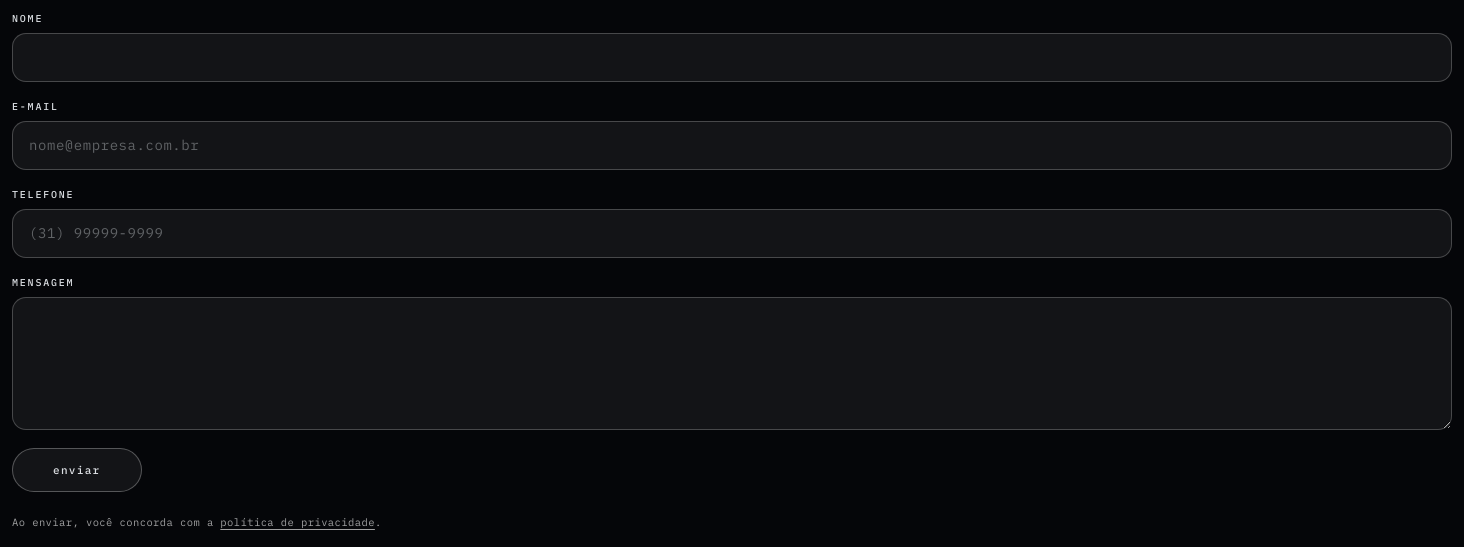
Test: consentimento e medição (LGPD) › formulário de contato não tem caixa de anúncios e registra só a política
The width and height of the screenshot is (1464, 547).
Type "Sarah" into the field labelled "nome" at (732, 58), box x1=12 y1=33 x2=1452 y2=82
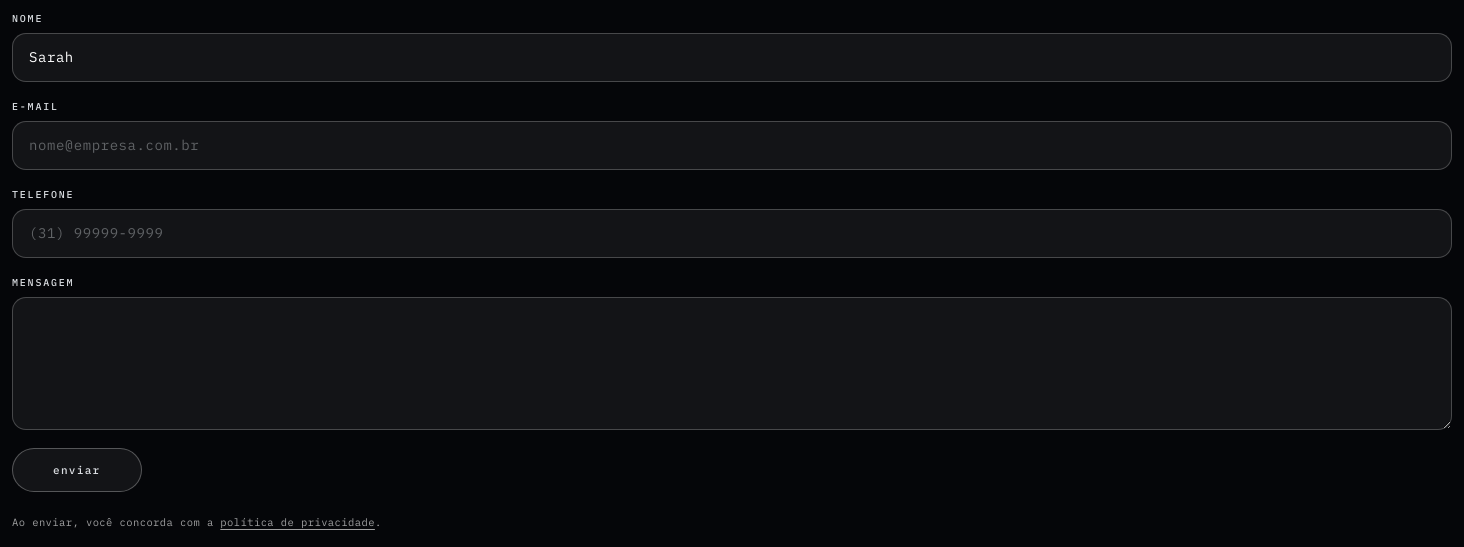
Type "sarah@exemplo.com" into the field labelled "e-mail" at (732, 146), box x1=12 y1=121 x2=1452 y2=170
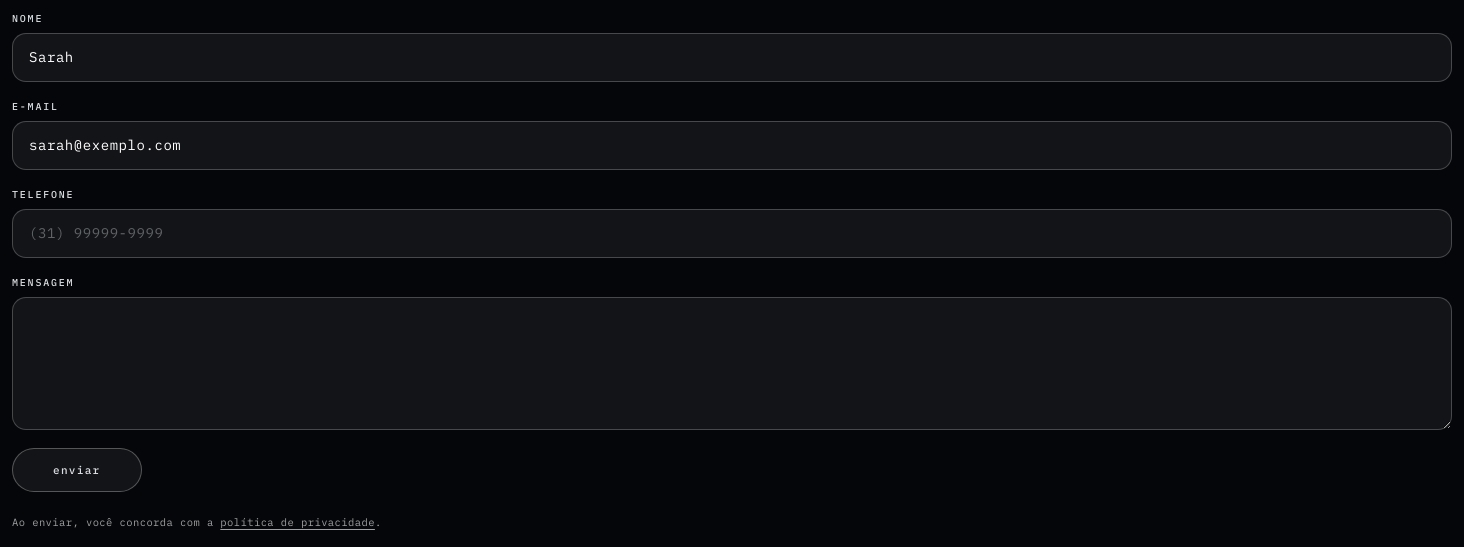
Type "31993341543" into the field labelled "telefone" at (732, 234), box x1=12 y1=209 x2=1452 y2=258
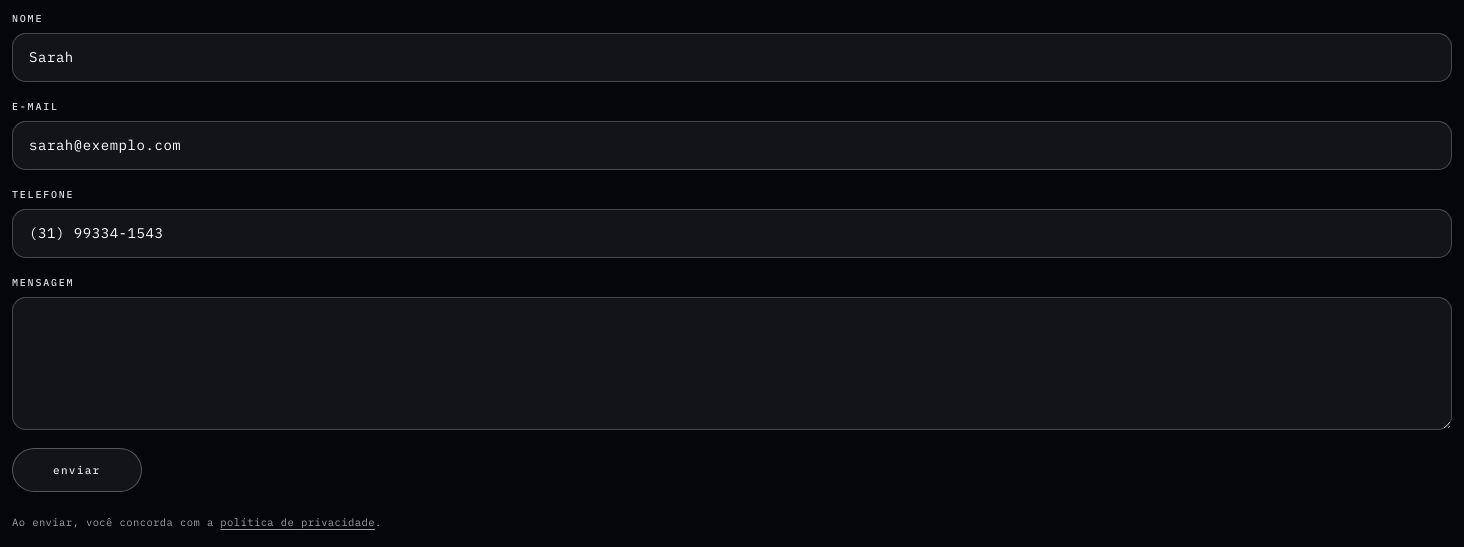
Type "Quero estruturar a comunicação da minha marca." into the text box labelled "mensagem" at (732, 364), box x1=12 y1=297 x2=1452 y2=430
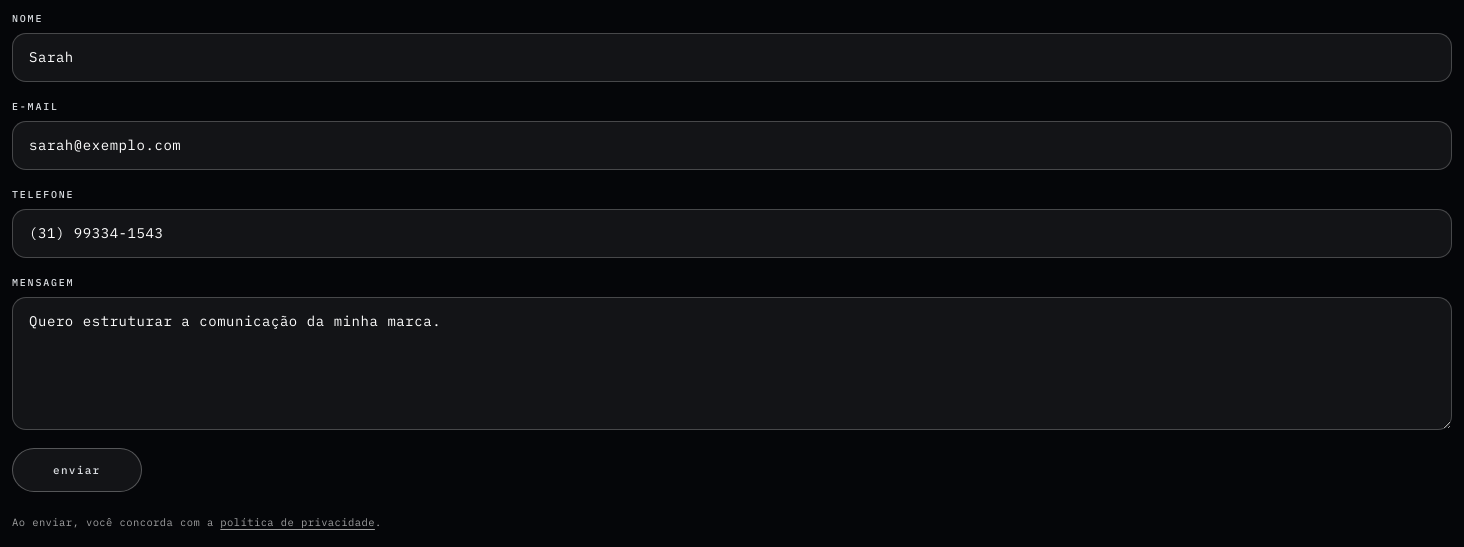
Submit the form "enviar"
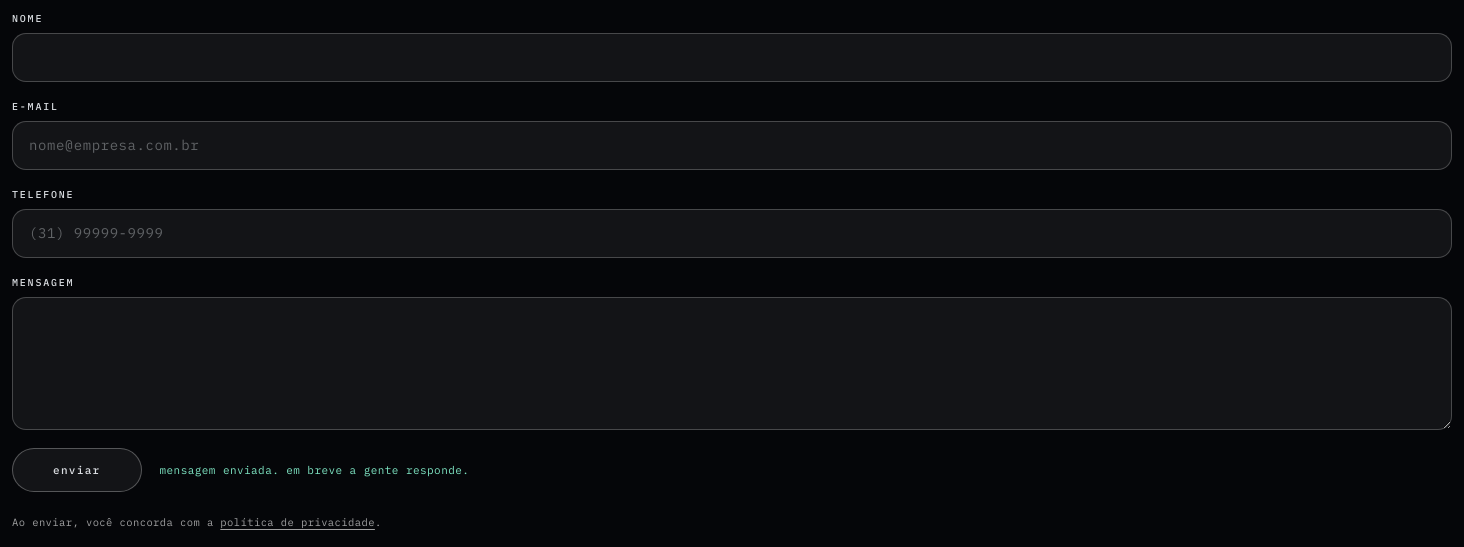
Expected: the text "mensagem enviada. em breve a gente responde." is shown, x1=160 y1=462 x2=469 y2=478
